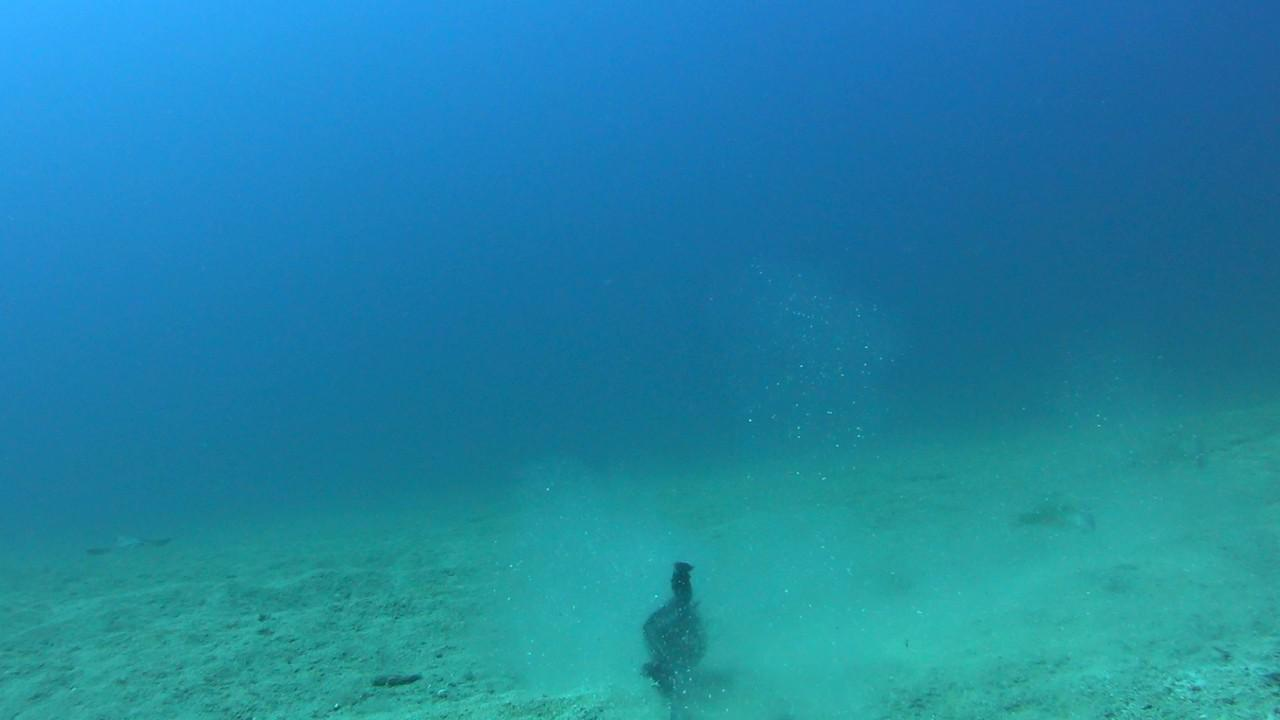myliobatis: (70, 505, 201, 565)
